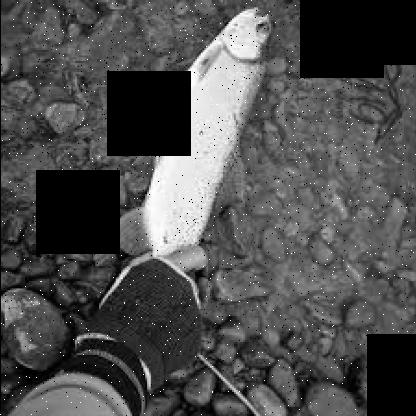fish: (119, 1, 277, 339)
